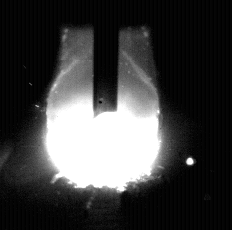arame: (93, 0, 119, 118)
poca: (46, 0, 157, 230)
